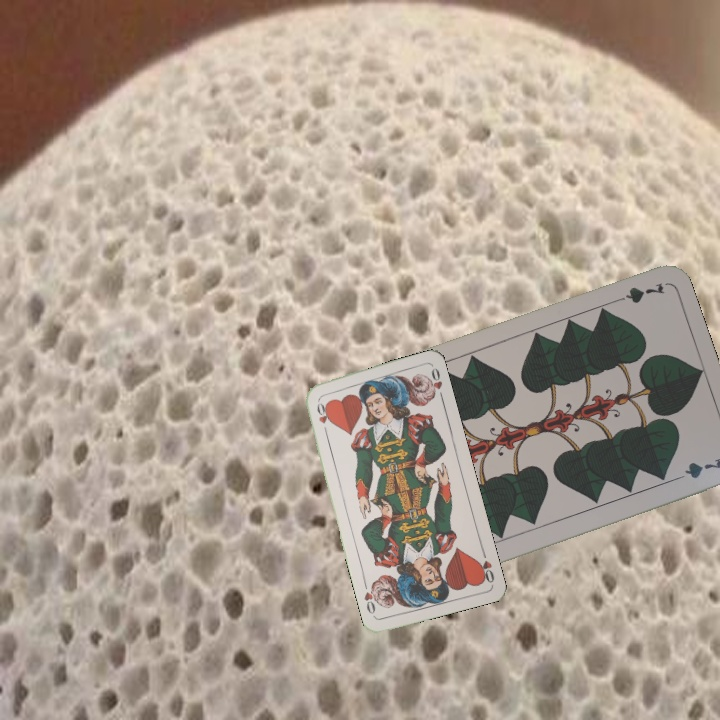G7: (607, 278, 667, 306)
HO: (475, 546, 497, 586), (313, 395, 331, 436)
